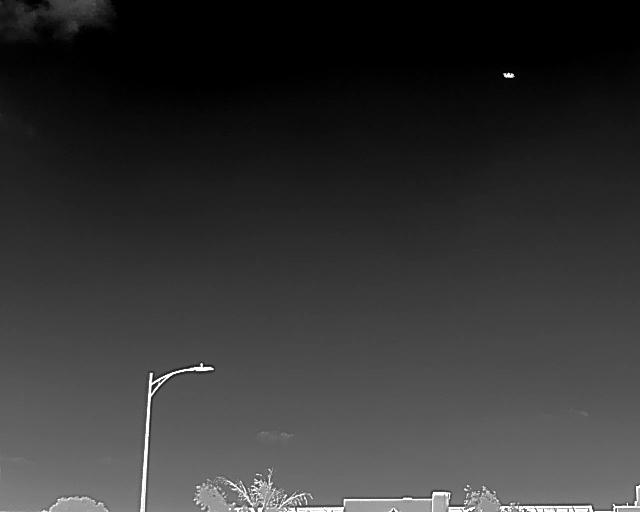fpv-drone: (503, 72, 514, 78)
